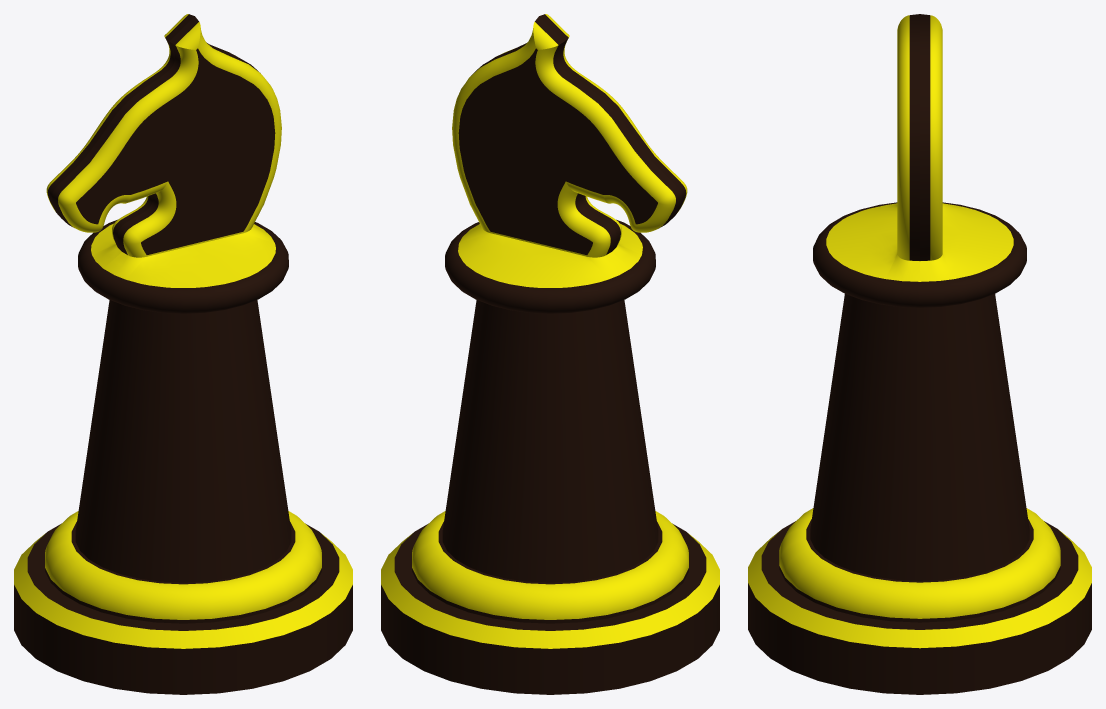
File: Premium_B_Knight.gltf
3 renders of one model, left to right at view 1: azimuth 30°, elevation 25°; view 2: azimuth 150°, elevation 25°; view 3: azimuth 270°, elevation 25°, orthographic.
Parts seen in each view (by area): view 1: Knight Black; view 2: Knight Black; view 3: Knight Black.
Boxes of the visible parts, x1,y1,x2,y2 form: Knight Black: (14,14,352,694); Knight Black: (381,14,719,694); Knight Black: (748,14,1091,694).
Bounding box in the file's own units: 0.029 × 0.0567 × 0.0288.
